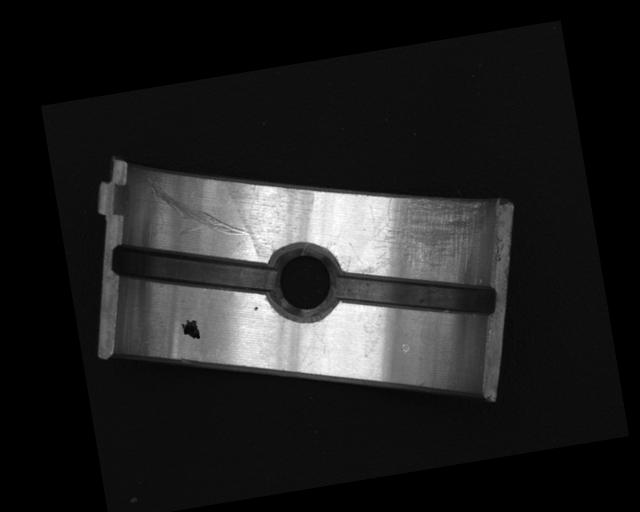blot: (179, 317, 201, 342)
bruise: (400, 340, 411, 354), (253, 306, 258, 311)
gap: (108, 222, 281, 318), (332, 250, 501, 338)
hole: (263, 237, 345, 325)
nick: (142, 159, 254, 253)
scratch: (344, 184, 500, 285)
